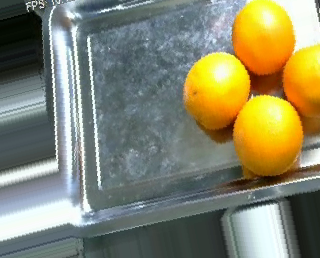Orange: (232, 94, 304, 176), (183, 50, 251, 131), (232, 1, 296, 75)
